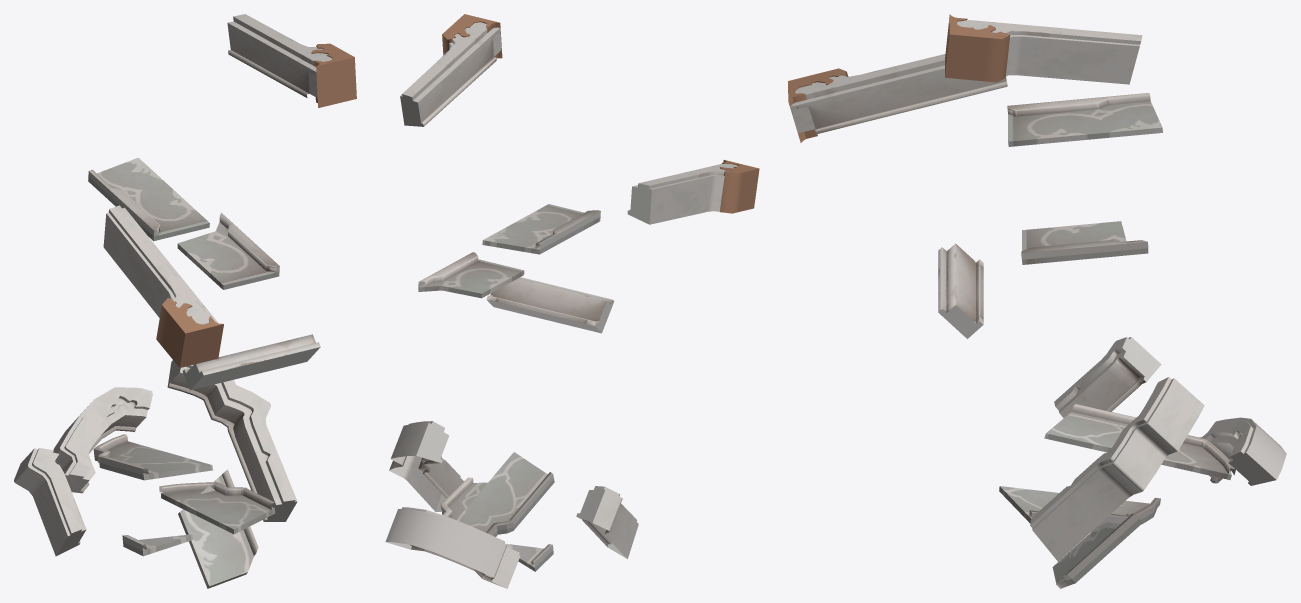
The model's file is DOOR.glb.
The picture shows the model from 3 angles, left to right: view 1: azimuth 30°, elevation 25°; view 2: azimuth 150°, elevation 25°; view 3: azimuth 270°, elevation 25°; orthographic projection. The views are drawn at different scales.
Parts seen in each view (by area): view 1: polySurface11, polySurface13, polySurface17, polySurface29, polySurface18, polySurface36, polySurface16, polySurface31, polySurface35, polySurface9, polySurface26, polySurface30; view 2: polySurface11, polySurface13, polySurface18, polySurface26, polySurface9, polySurface17, polySurface29, polySurface36, polySurface16, polySurface35, polySurface30; view 3: polySurface17, polySurface13, polySurface11, polySurface29, polySurface26, polySurface16, polySurface36, polySurface18, polySurface9, polySurface31, polySurface35.
Boxes of the visible parts, box(x1,y1,x2,y2) form: polySurface11: box(103, 205, 223, 367); polySurface13: box(227, 14, 356, 107); polySurface17: box(167, 360, 297, 521); polySurface29: box(88, 157, 209, 241); polySurface18: box(53, 387, 152, 493); polySurface36: box(177, 212, 279, 289); polySurface16: box(14, 448, 86, 556); polySurface31: box(178, 469, 258, 588); polySurface35: box(159, 482, 275, 534); polySurface9: box(182, 334, 320, 390); polySurface26: box(93, 434, 212, 480); polySurface30: box(122, 534, 193, 556); polySurface11: box(627, 160, 759, 224); polySurface13: box(400, 14, 502, 126); polySurface18: box(385, 507, 520, 588); polySurface26: box(456, 452, 554, 536); polySurface9: box(486, 277, 614, 333); polySurface17: box(389, 421, 463, 511); polySurface29: box(482, 204, 600, 254); polySurface36: box(418, 252, 524, 298); polySurface16: box(576, 486, 638, 558); polySurface35: box(440, 477, 487, 519); polySurface30: box(505, 543, 553, 571); polySurface17: box(1030, 377, 1204, 561); polySurface13: box(945, 14, 1142, 84); polySurface11: box(788, 54, 1007, 142); polySurface29: box(1007, 93, 1162, 146); polySurface26: box(1044, 404, 1235, 480); polySurface16: box(1054, 337, 1161, 418); polySurface36: box(1021, 221, 1148, 264); polySurface18: box(1199, 417, 1286, 485); polySurface9: box(938, 243, 983, 338); polySurface31: box(1052, 514, 1143, 588); polySurface35: box(999, 486, 1160, 531).
Bounding box in the file's own units: 647 × 1352 × 1038.
Materials: 1 (1 with a texture image).
